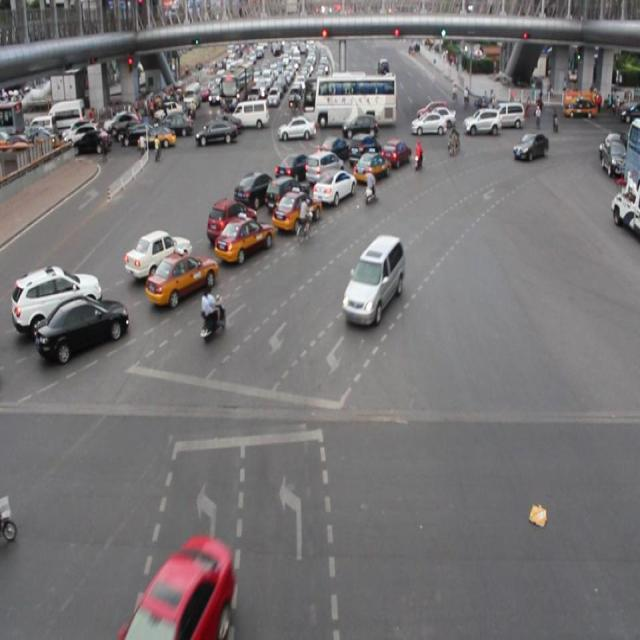car: (130, 533, 236, 640), (12, 266, 101, 328), (342, 235, 404, 318), (38, 296, 128, 350), (145, 253, 217, 300), (125, 232, 194, 274), (214, 214, 273, 258), (208, 197, 255, 242), (272, 187, 319, 230), (265, 177, 309, 213), (312, 169, 355, 204), (305, 151, 344, 188), (234, 171, 274, 206), (274, 152, 314, 183), (347, 133, 382, 166), (352, 151, 389, 182), (380, 136, 411, 168), (316, 137, 348, 166), (513, 134, 548, 160)
